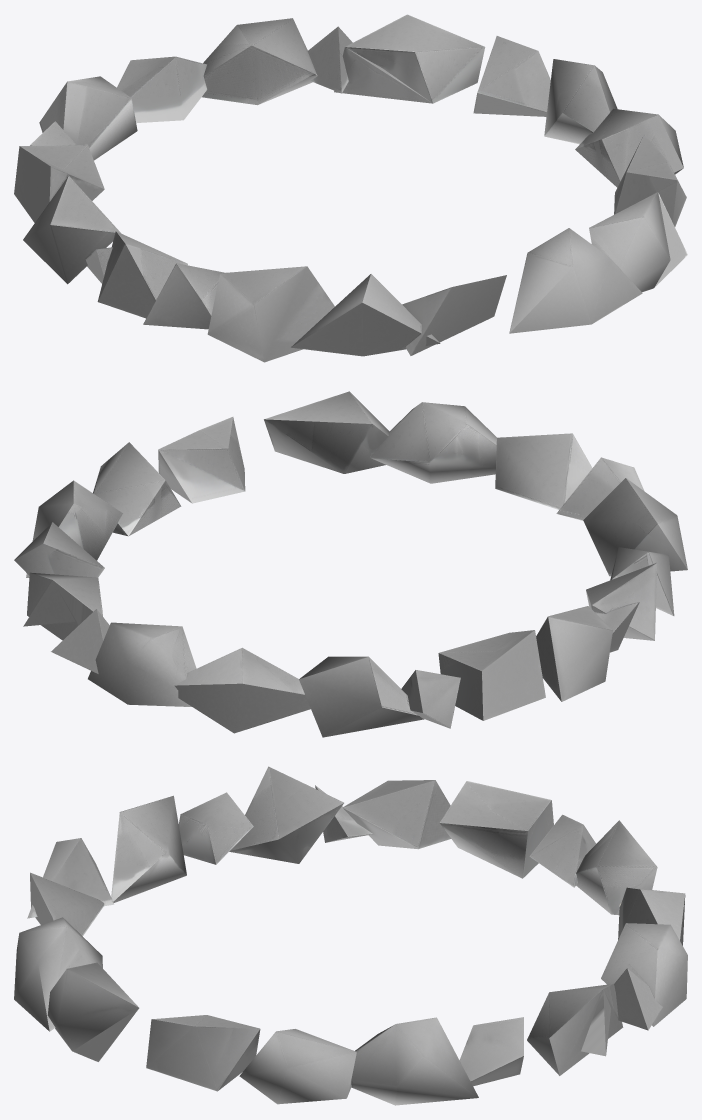
The model's file is Meshy_AI_Stone_Circle_0824074845_texture.fbx.
3 renders of one model, top to bottom at view 1: azimuth 30°, elevation 25°; view 2: azimuth 150°, elevation 25°; view 3: azimuth 270°, elevation 25°, orthographic. The views are drawn at different scales.
Visible parts, largest first — view 1: mesh_node; view 2: mesh_node; view 3: mesh_node.
Part boxes in pixels (x1=…): mesh_node: x1=14, y1=14, x2=687, y2=362; mesh_node: x1=14, y1=391, x2=687, y2=737; mesh_node: x1=14, y1=766, x2=687, y2=1105.
Bounding box in the file's own units: 2.06 × 0.3 × 2.1.
1 material, 1 textured.
